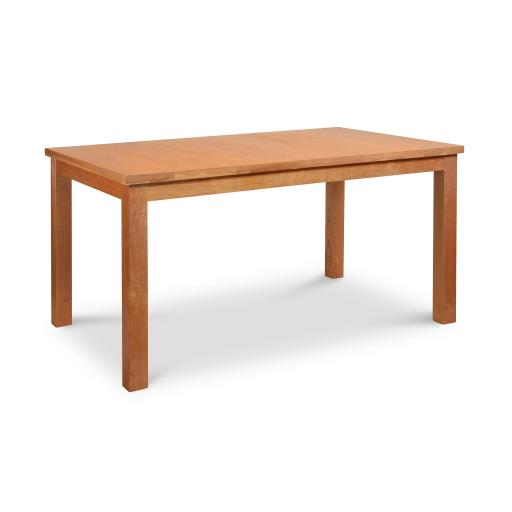table: (38, 122, 466, 372)
